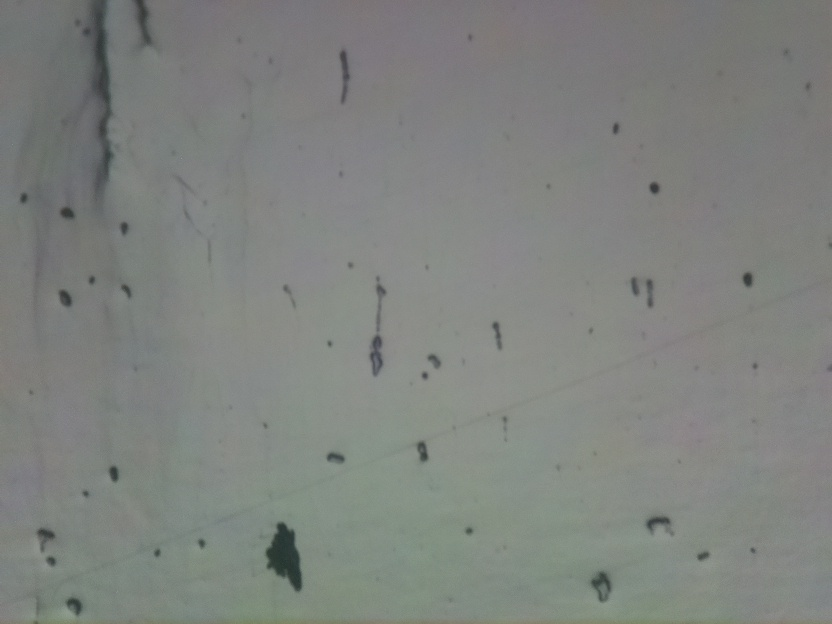crack: (78, 0, 118, 180), (131, 0, 162, 52)
